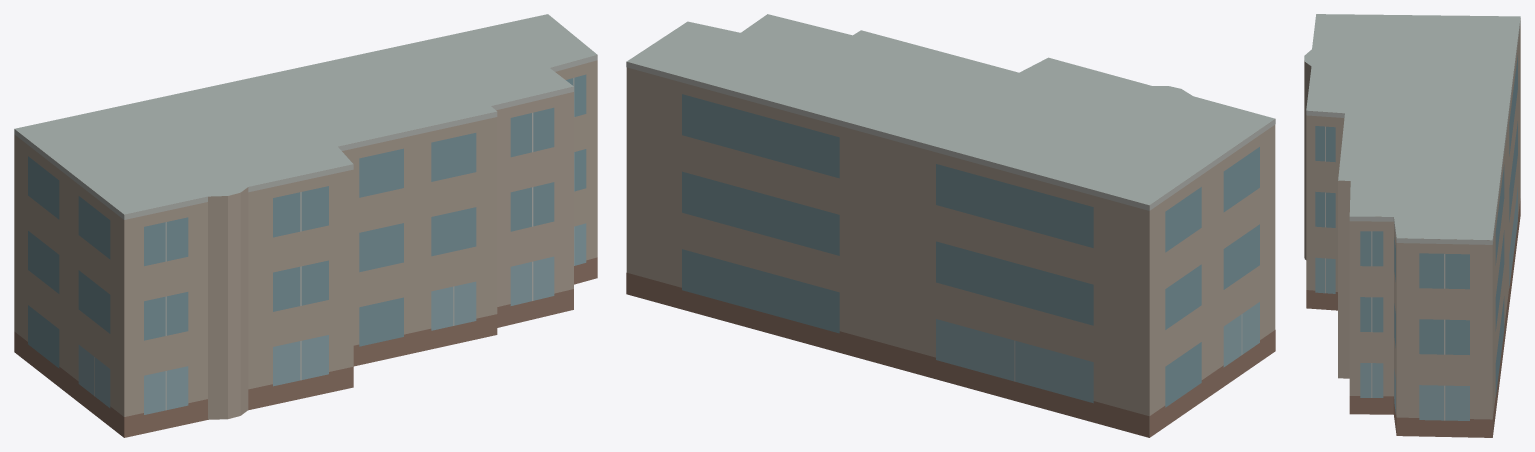
The model's file is survey-upis-32525123.glb.
The picture shows the model from 3 angles, left to right: view 1: azimuth 30°, elevation 25°; view 2: azimuth 150°, elevation 25°; view 3: azimuth 270°, elevation 25°; orthographic projection. The views are drawn at different scales.
Parts seen in each view (by area): view 1: survey-upis-32525123.tmp; view 2: survey-upis-32525123.tmp; view 3: survey-upis-32525123.tmp.
Part boxes in pixels (left/top/right/bottom): survey-upis-32525123.tmp: left=14, top=14, right=597, bottom=437; survey-upis-32525123.tmp: left=626, top=14, right=1275, bottom=437; survey-upis-32525123.tmp: left=1304, top=14, right=1520, bottom=437.
Size of the model in its own units: 24.79 by 10.1 by 10.03.
